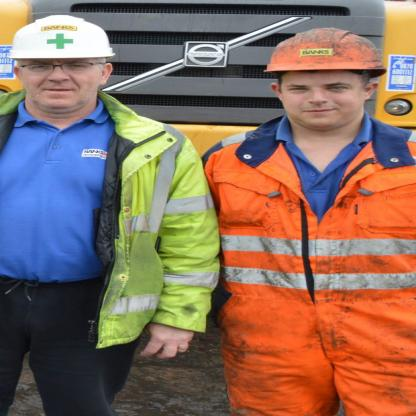person: (2, 15, 234, 414), (211, 15, 415, 415)
